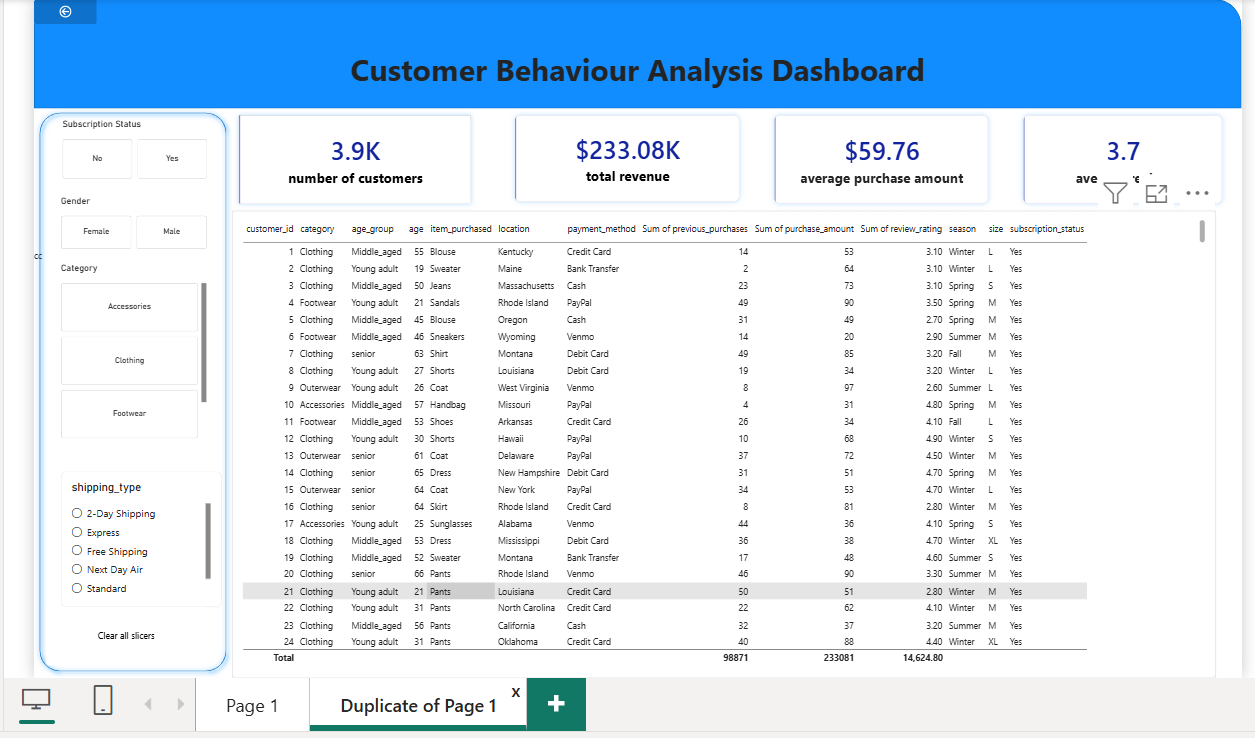

Layout of this report page (visuals, bound fields, positions):
{"tool":"powerbi","page":{"name":"Duplicate of Page 1","canvas":[1920,1080],"ordinal":1},"visuals":[{"type":"cardVisual","fields":{"Data":["customer_shopping.average review"]},"box":[1562.8,174.2,338.8,162.2],"z":0},{"type":"cardVisual","fields":{"Data":["customer_shopping.number of customers"]},"box":[314.9,174.2,391.3,162.2],"z":1000},{"type":"cardVisual","fields":{"Data":["customer_shopping.total revenue"]},"box":[753.9,174.2,379.4,159.9],"z":2000},{"type":"cardVisual","fields":{"Data":["customer_shopping.average purchase amount"]},"box":[1166.7,174.2,362.7,162.2],"z":3000},{"type":"shape","box":[0,0,1920.7,174.2],"z":4000},{"type":"textbox","box":[0,398.5,1920,157],"z":5000},{"type":"textbox","box":[0,78.7,1920.7,112.1],"z":6000},{"type":"shape","box":[0,172.5,314.9,906.6],"z":7000},{"type":"advancedSlicerVisual","fields":{"Values":["customer_shopping.subscription_status"]},"box":[45,190,230,95],"z":8000},{"type":"advancedSlicerVisual","fields":{"Values":["customer_shopping.gender"]},"box":[42.5,312.5,232.5,85],"z":9000},{"type":"advancedSlicerVisual","fields":{"Values":["customer_shopping.category"]},"box":[42.9,419.9,231.4,279.2],"z":10000},{"type":"listSlicer","fields":{"Values":["customer_shopping.shipping_type"]},"box":[42.5,752.5,255,215],"z":11000},{"type":"actionButton","box":[19.1,966.3,255.3,93.1],"z":12000},{"type":"tableEx","fields":{"Values":["customer_shopping.customer_id","customer_shopping.category","customer_shopping.age_group","customer_shopping.age","customer_shopping.item_purchased","customer_shopping.location","customer_shopping.payment_method","Sum(customer_shopping.previous_purchases)","Sum(customer_shopping.purchase_amount)","Sum(customer_shopping.review_rating)","customer_shopping.season","customer_shopping.size"]},"box":[315,337.5,1565,742.5],"z":13000},{"type":"actionButton","box":[0,0,100,40],"z":14000}]}

Visuals, with their boxes on the page's 1920x1080 design canvas (x1, y1, x2, y2). These are canvas units, not pixel positions in the 1255x738 screenshot, which may show the page scaled, cropped or inside an application window:
cardVisual - customer_shopping.average review: 1563:174:1902:336
cardVisual - customer_shopping.number of customers: 315:174:706:336
cardVisual - customer_shopping.total revenue: 754:174:1133:334
cardVisual - customer_shopping.average purchase amount: 1167:174:1529:336
shape: 0:0:1921:174
textbox: 0:398:1920:556
textbox: 0:79:1921:191
shape: 0:172:315:1079
advancedSlicerVisual - customer_shopping.subscription_status: 45:190:275:285
advancedSlicerVisual - customer_shopping.gender: 42:312:275:398
advancedSlicerVisual - customer_shopping.category: 43:420:274:699
listSlicer - customer_shopping.shipping_type: 42:752:298:968
actionButton: 19:966:274:1059
tableEx - customer_shopping.customer_id x customer_shopping.category: 315:338:1880:1080
actionButton: 0:0:100:40
